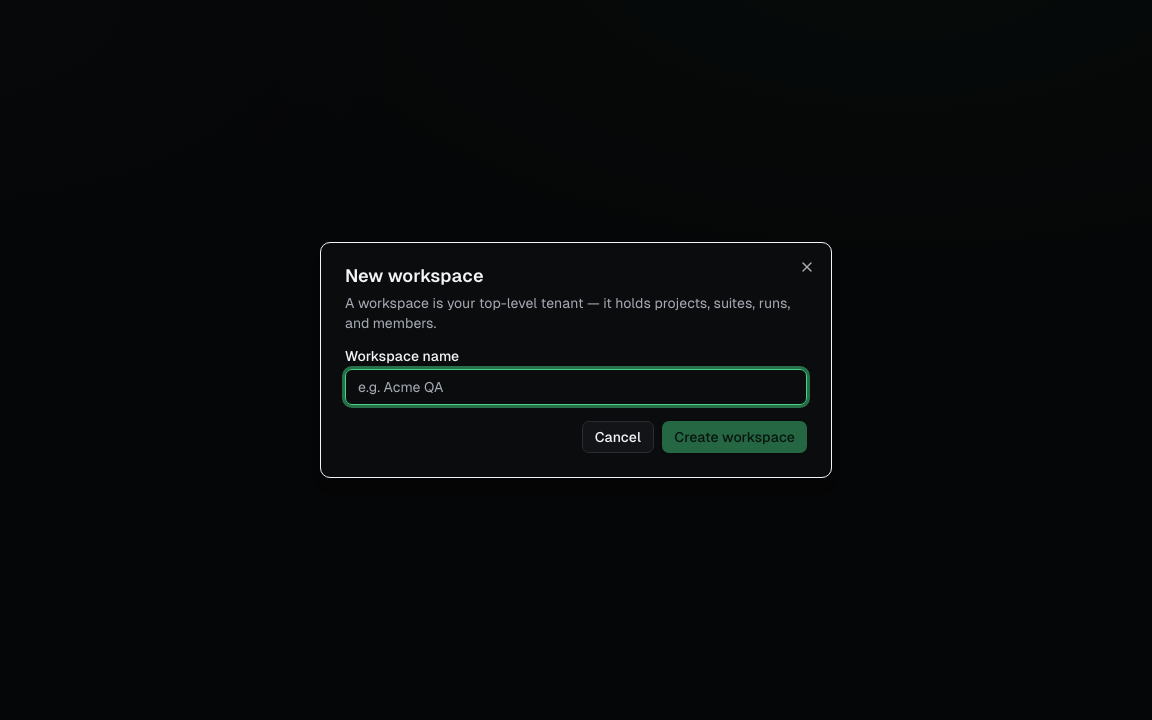
it: CreateWorkspaceDialog › surfaces an error when the slug is taken (409)
Type "Dupe" into the field with test id "create-workspace-name" at (576, 387), box x1=345 y1=369 x2=807 y2=405
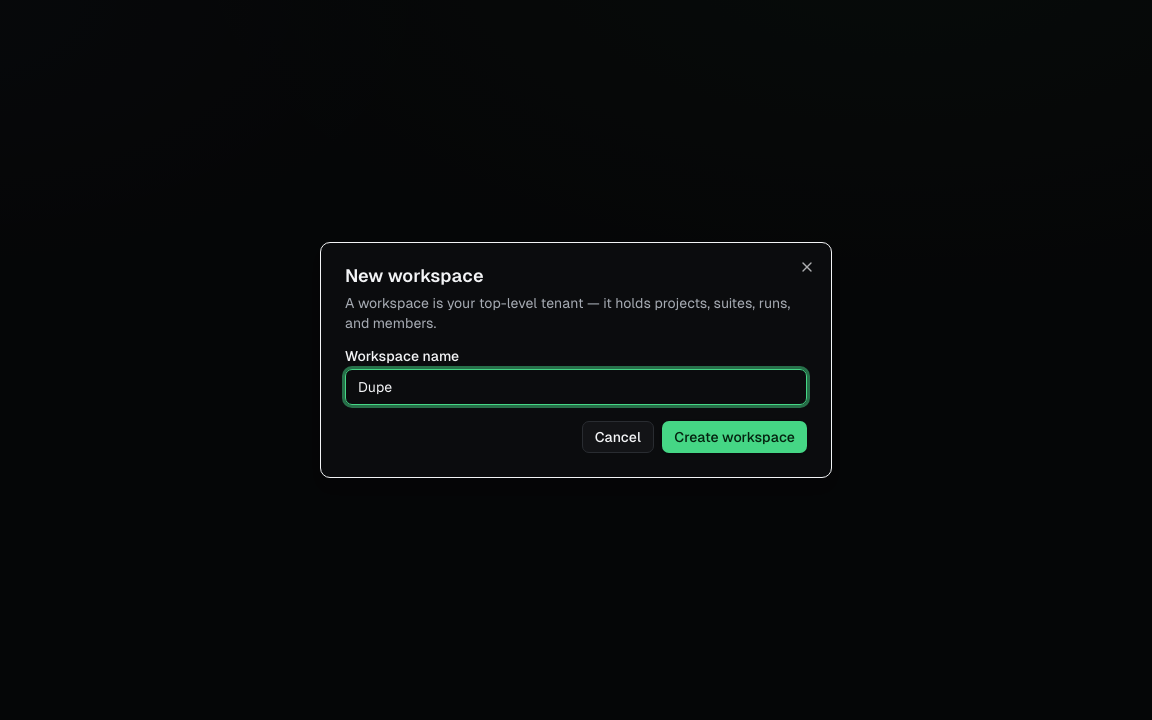
Click the button with test id "create-workspace-submit" at (735, 437), box x1=662 y1=421 x2=807 y2=453
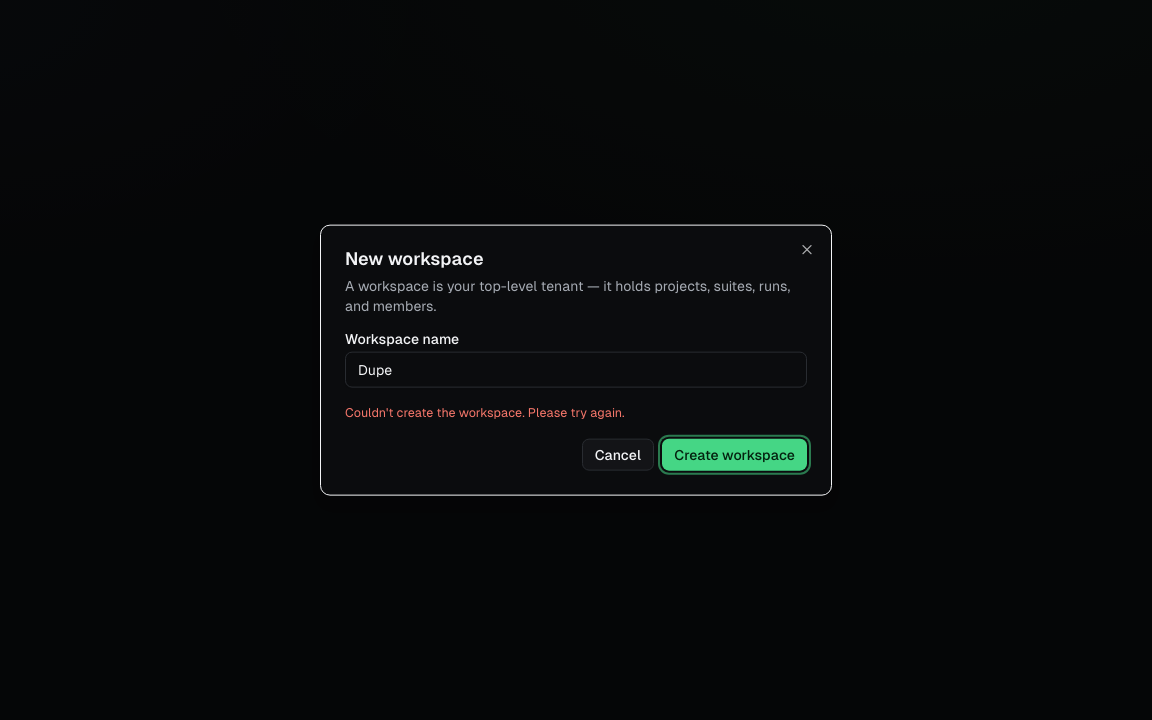
Result: the text "Couldn't create the workspace. Please try again." is shown at x1=345 y1=405 x2=625 y2=420
